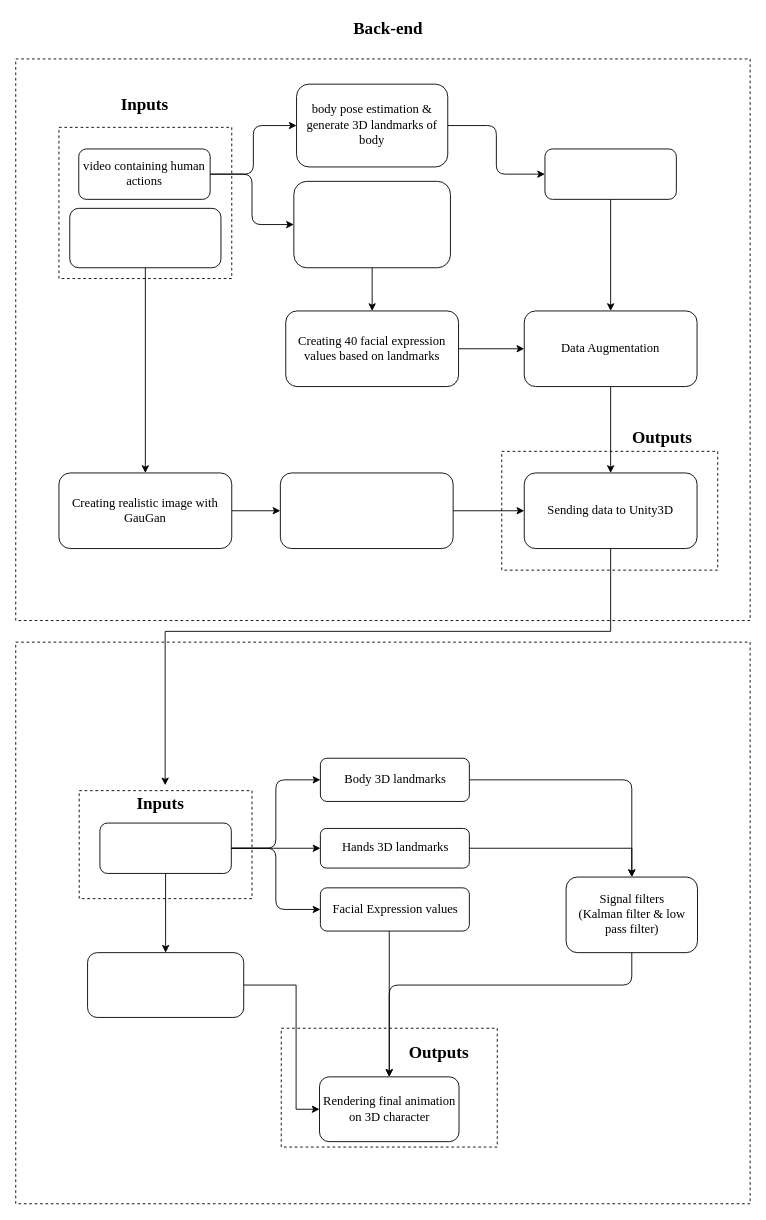
The diagram is 766 pixels wide and 1220 high, and some of its shapes have lost their labels. Here are the shapes that lost their labels. From the top down, the centre of each, then its label:
At [610,173]: "Managing generated landmarks".
At [145,237]: "Human made semantic segmentation".
At [371,224]: "Creating 3D facial landmarks".
At [366,510]: "Managing generated image".
At [165,847]: "Received data from server".
At [165,984]: "Downloading GauGan background image".
